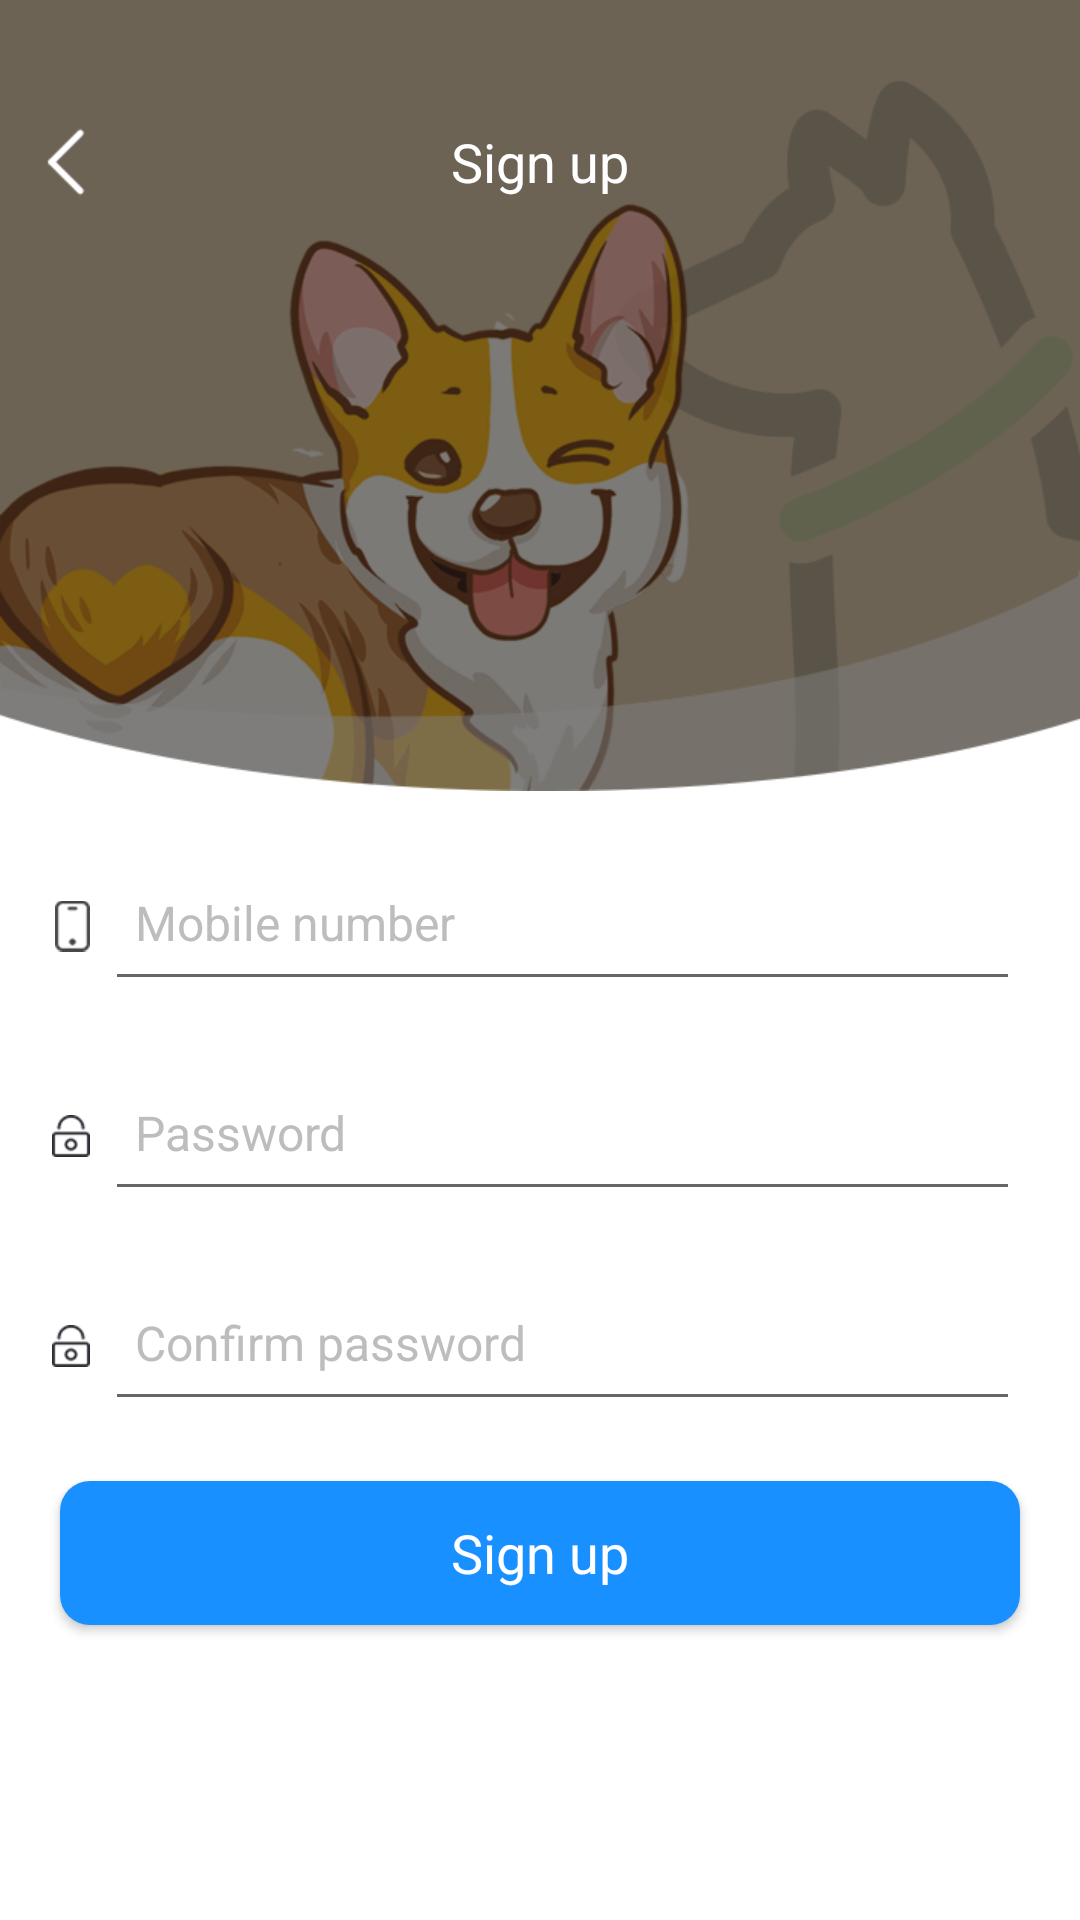

Named icons in this screenshot (1080px×1920px) and their centers, point (x, y):
back: point (65, 162)
phone: point (72, 926)
